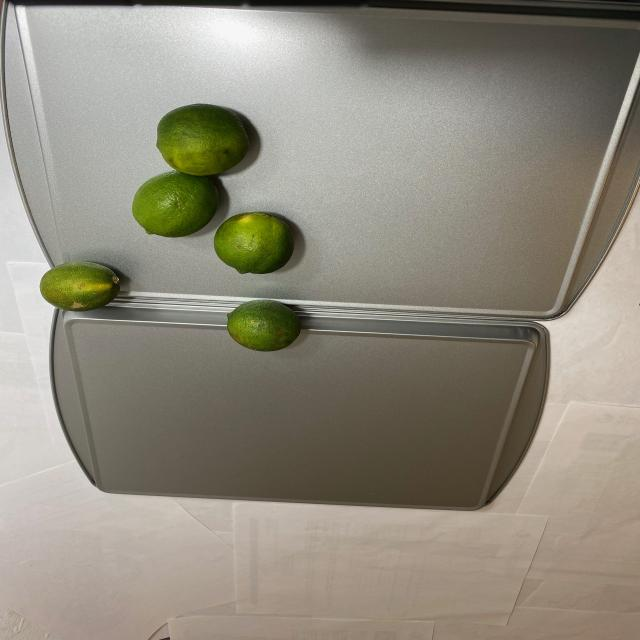lemon: (133, 102, 312, 360), (37, 264, 125, 310)
